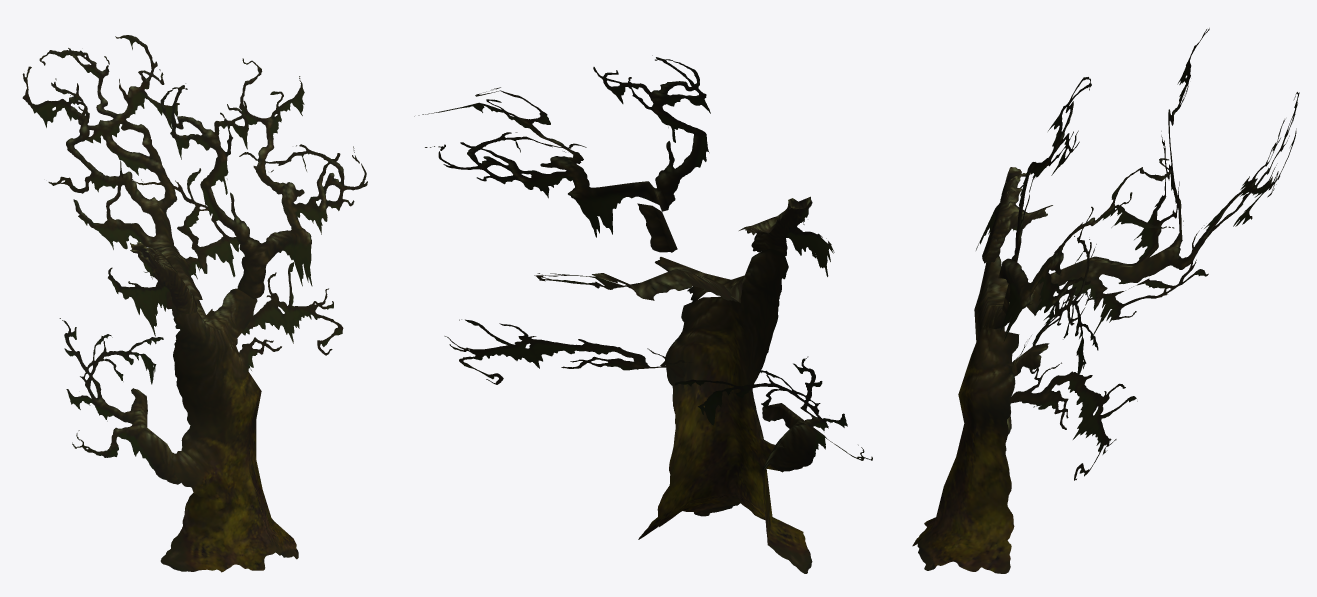
Rendered from hazz_tree_07.FBX.
3 views of the same model, side by side, from view 1: azimuth 30°, elevation 25°; view 2: azimuth 150°, elevation 25°; view 3: azimuth 270°, elevation 25° (orthographic). The views are drawn at different scales.
Parts seen in each view (by area): view 1: hazz_tree_07; view 2: hazz_tree_07; view 3: hazz_tree_07.
Part boxes in pixels (<box>): hazz_tree_07: <box>22,35,367,572</box>; hazz_tree_07: <box>414,55,872,573</box>; hazz_tree_07: <box>912,28,1299,573</box>.
Bounding box in the file's own units: 578 × 729 × 535.
